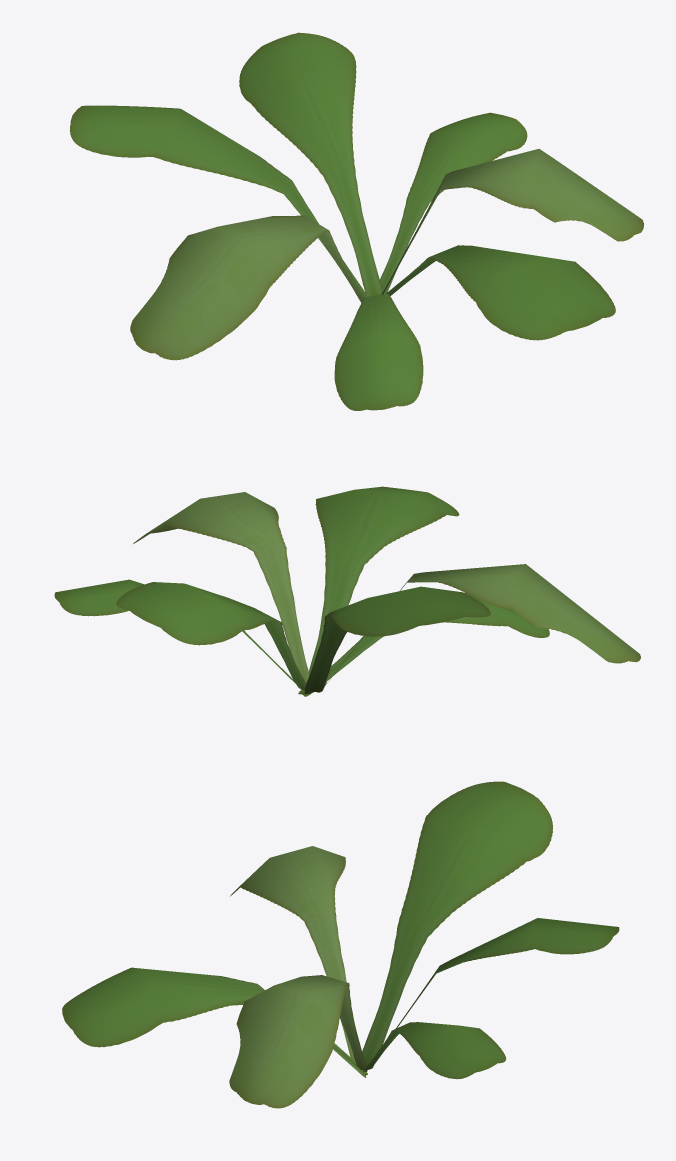
File: Plant01.glb
3 views of the same model, one above another, from view 1: azimuth 30°, elevation 25°; view 2: azimuth 150°, elevation 25°; view 3: azimuth 270°, elevation 25° (orthographic). The views are drawn at different scales.
Visible parts, largest first — view 1: plant01; view 2: plant01; view 3: plant01.
Boxes of the visible parts, x1,y1,x2,y2 form: plant01: [70, 32, 643, 410]; plant01: [54, 486, 640, 696]; plant01: [62, 781, 619, 1108].
Bounding box in the file's own units: 1.93 × 0.7303 × 2.02.
Materials: 1 (1 with a texture image).
